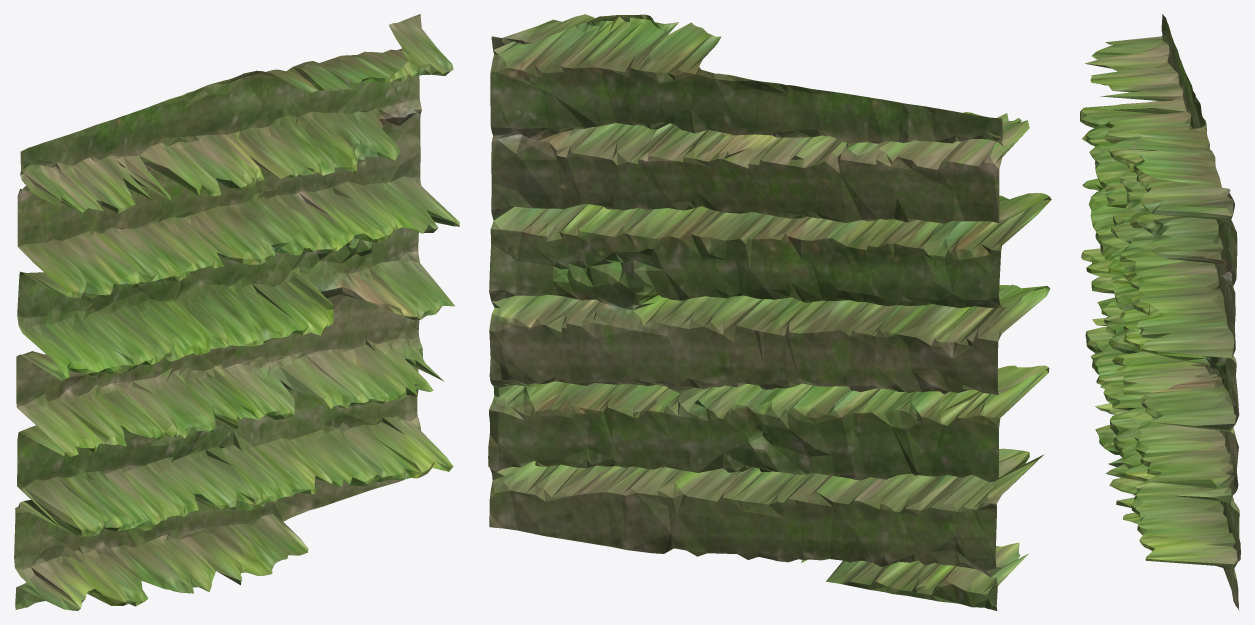
File: map_60_0.obj
The picture shows the model from 3 angles, left to right: view 1: azimuth 30°, elevation 25°; view 2: azimuth 150°, elevation 25°; view 3: azimuth 270°, elevation 25°; orthographic projection. The views are drawn at different scales.
Parts seen in each view (by area): view 1: grp1; view 2: grp1; view 3: grp1.
Part boxes in pixels (x1,y1,x2,y2): grp1: (14, 14, 459, 610); grp1: (488, 14, 1051, 610); grp1: (1080, 14, 1240, 610).
Bounding box in the file's own units: 10 × 10 × 3.58.
Materials: 1 (1 with a texture image).
